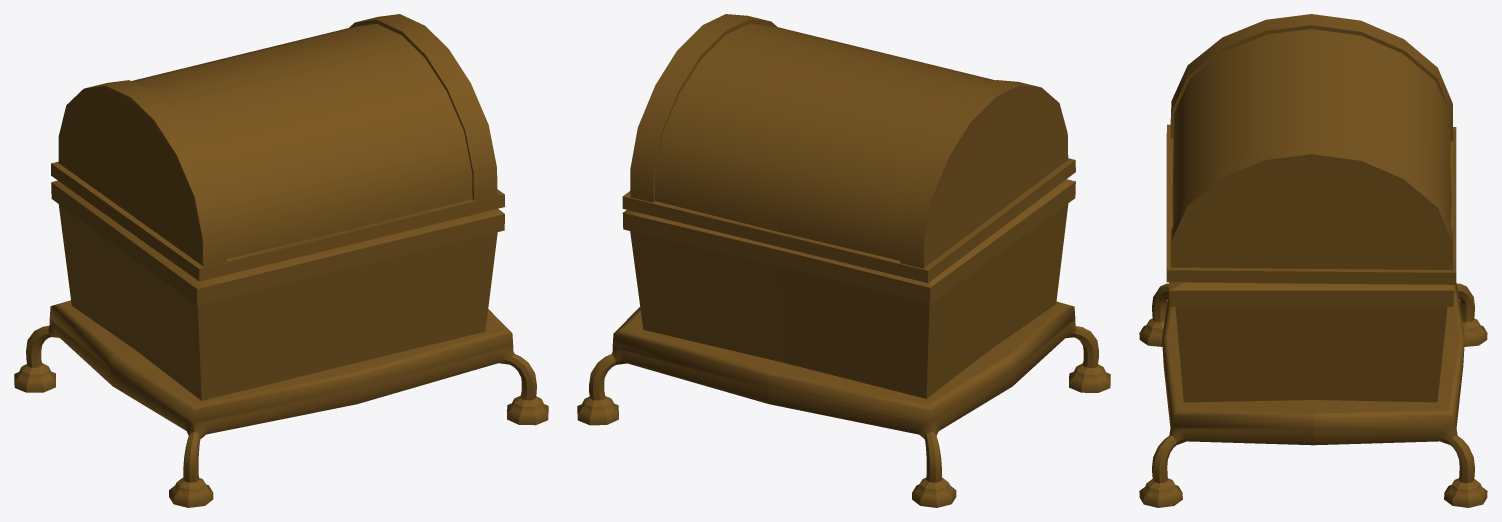
Rendered from Chest.fbx.
The picture shows the model from 3 angles, left to right: view 1: azimuth 30°, elevation 25°; view 2: azimuth 150°, elevation 25°; view 3: azimuth 270°, elevation 25°; orthographic projection. The views are drawn at different scales.
Parts seen in each view (by area): view 1: chest_lid, chest_body, bottom; view 2: chest_lid, chest_body, bottom; view 3: chest_lid, chest_body, bottom.
Boxes of the visible parts, left/top/right/bottom form: chest_lid: left=51, top=14, right=504, bottom=281; chest_body: left=51, top=180, right=504, bottom=400; bottom: left=14, top=300, right=548, bottom=507; chest_lid: left=622, top=14, right=1075, bottom=282; chest_body: left=622, top=179, right=1075, bottom=398; bottom: left=577, top=301, right=1110, bottom=507; chest_lid: left=1166, top=14, right=1456, bottom=284; chest_body: left=1169, top=282, right=1453, bottom=402; bottom: left=1139, top=282, right=1487, bottom=507.
Size of the model in its own units: 1.28 by 1.11 by 1.05.
